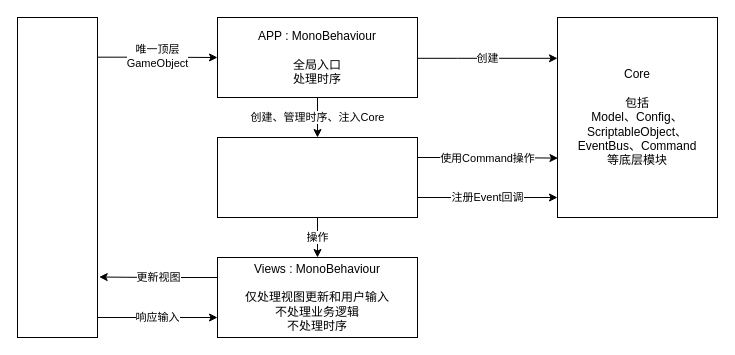
This 735x355 diagram has some shape labels left out. Each missing label, with the centre of its shape:
Controllers 处理业务逻辑 应用虚拟时序: the point at 317,177
Scene: the point at 57,177
